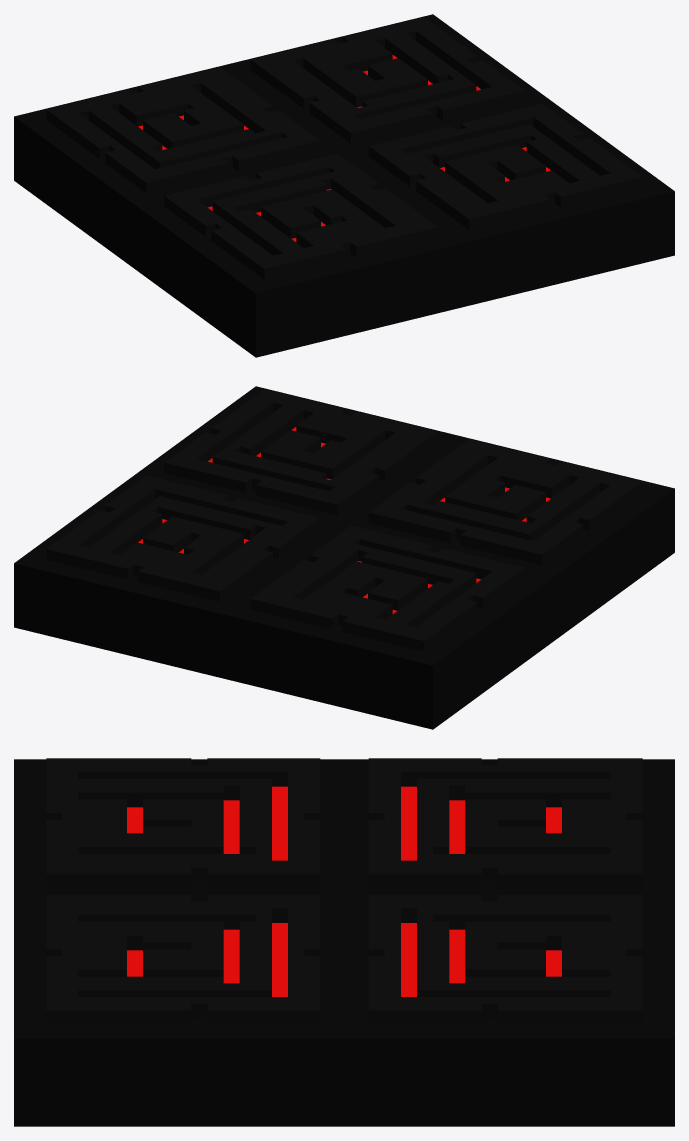
Rendered from RuneFloor1.FBX.
3 renders of one model, top to bottom at view 1: azimuth 30°, elevation 25°; view 2: azimuth 150°, elevation 25°; view 3: azimuth 270°, elevation 25°, orthographic. The views are drawn at different scales.
Parts seen in each view (by area): view 1: RuneFloor1; view 2: RuneFloor1; view 3: RuneFloor1.
Part boxes in pixels (x1=…): RuneFloor1: x1=14, y1=14, x2=674, y2=357; RuneFloor1: x1=14, y1=386, x2=674, y2=729; RuneFloor1: x1=14, y1=758, x2=674, y2=1126.
Bounding box in the file's own units: 41 × 41 × 7.
